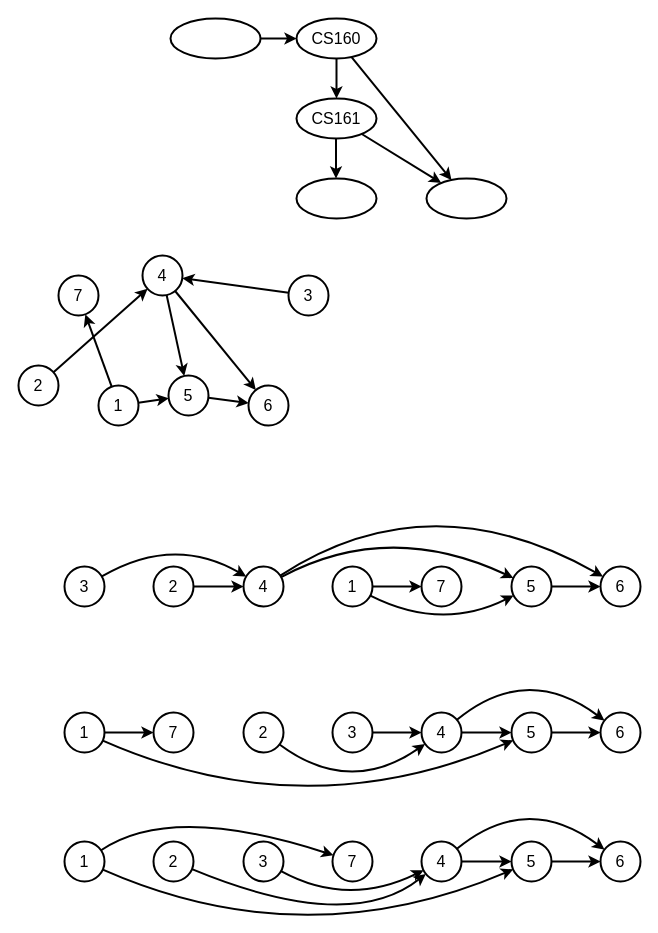
The diagram is 658 pixels wide and 933 high, and some of its shapes have lost their labels. The box of each missing label's shape, as (x1, y1, x2, y2) in pixels:
CS162: (295, 177, 377, 219)
CS205: (425, 177, 507, 219)
MTH111: (169, 17, 261, 59)
